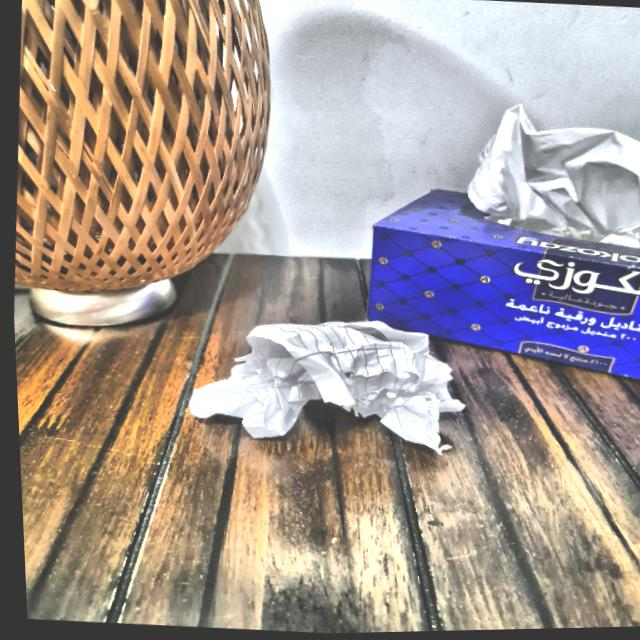Paper: (180, 301, 460, 455)
